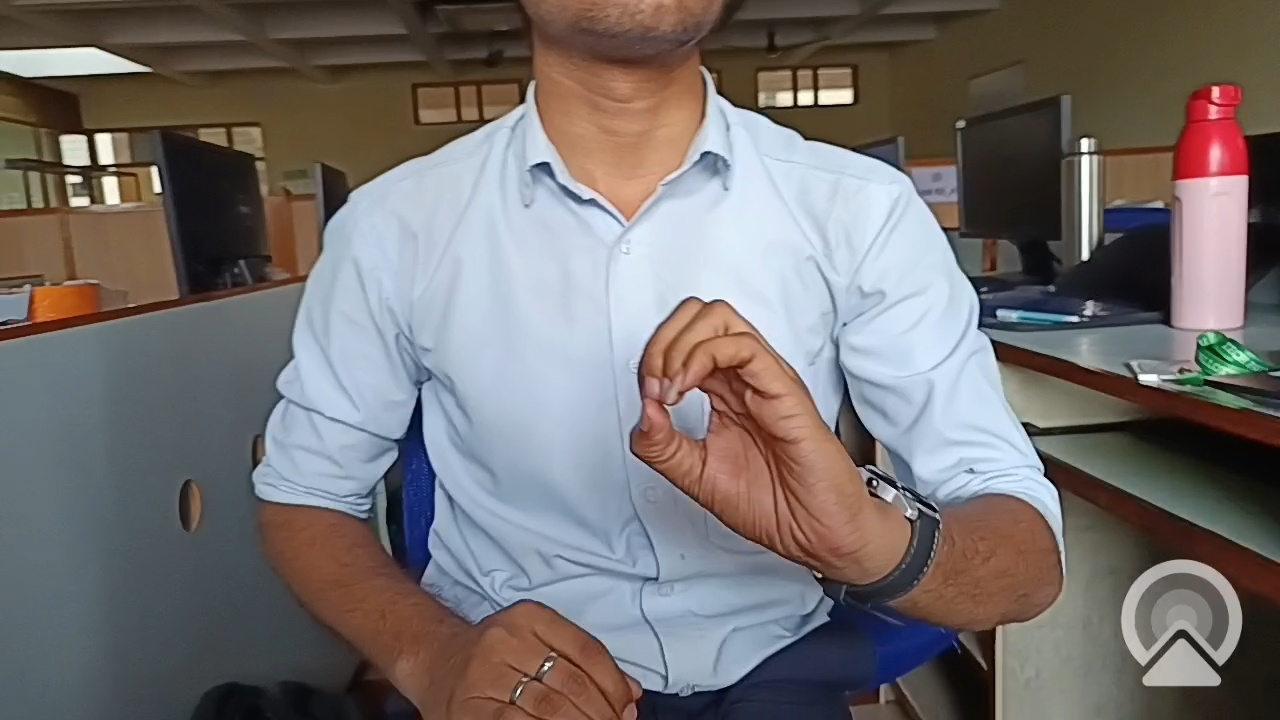O: (590, 282, 885, 621)
